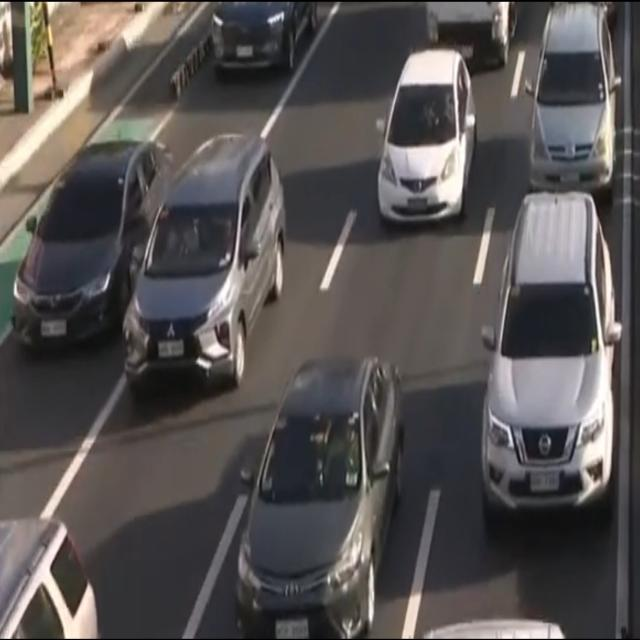SUV: (484, 191, 620, 514), (123, 135, 285, 391), (527, 2, 621, 196), (210, 0, 317, 73)
Sedan: (234, 359, 404, 640), (10, 139, 170, 347), (378, 49, 476, 228)
